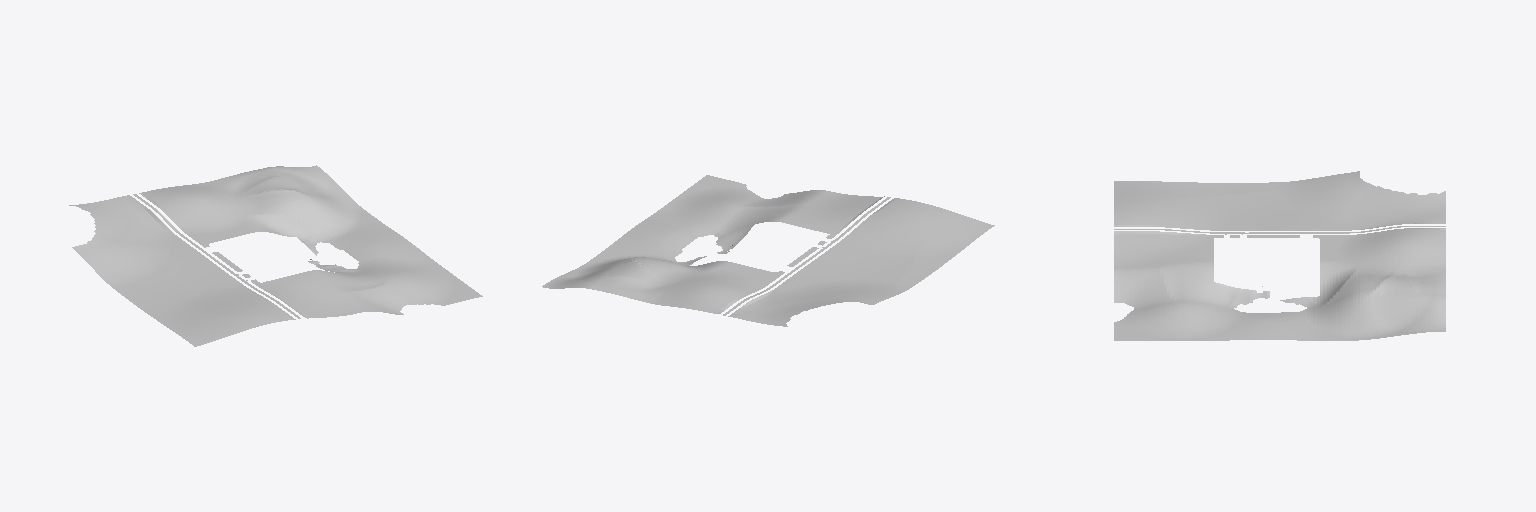
Rendered from grasslands.obj.
3 renders of one model, left to right at view 1: azimuth 30°, elevation 25°; view 2: azimuth 150°, elevation 25°; view 3: azimuth 270°, elevation 25°, orthographic.
Parts seen in each view (by area): view 1: Factory.001; view 2: Factory.001; view 3: Factory.001.
Part boxes in pixels (x1,y1,x2,y2): Factory.001: (69,165,482,346); Factory.001: (542,175,994,326); Factory.001: (1114,171,1445,340).
Bounding box in the file's own units: 10000 × 999 × 10000.